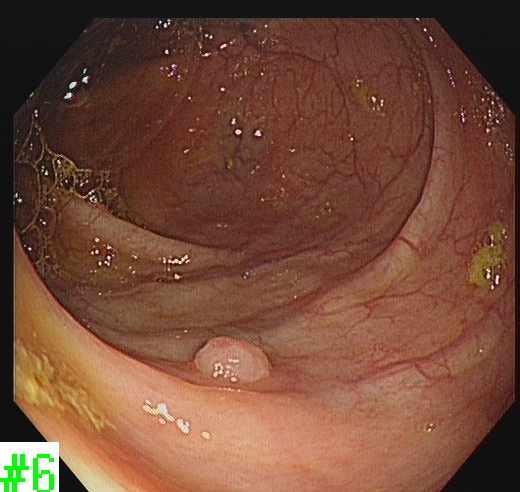adenoma: (190, 334, 277, 386)
